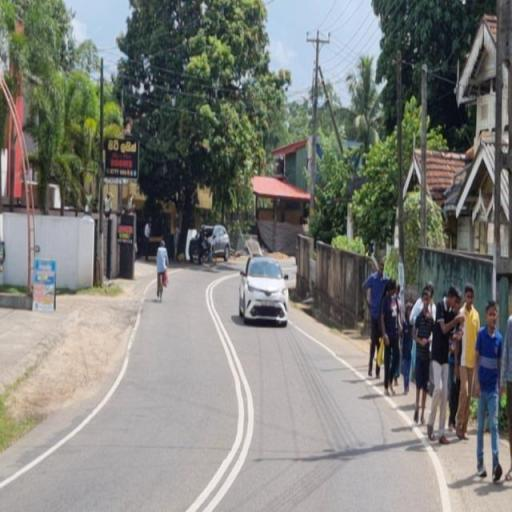double_white_line: (184, 280, 256, 511)
